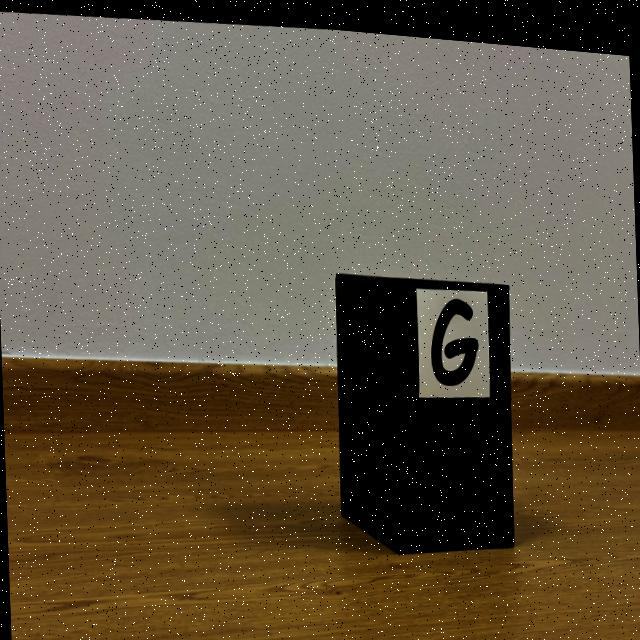G: (431, 290, 478, 377)
